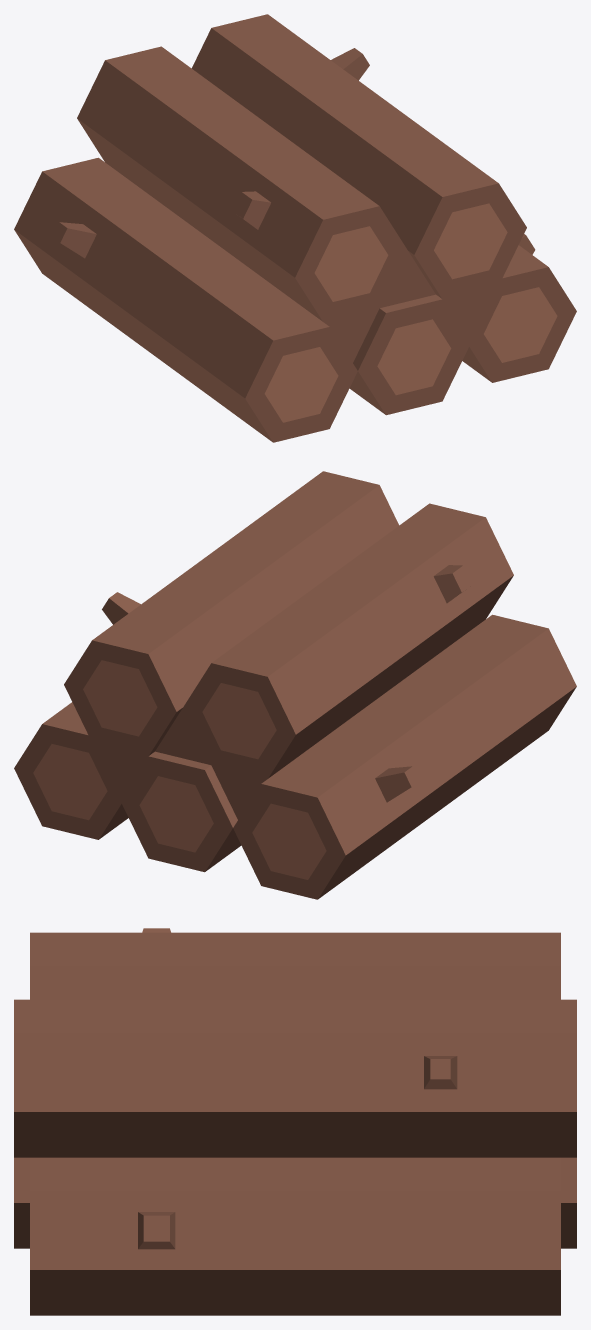
File: log.fbx
3 renders of one model, top to bottom at view 1: azimuth 30°, elevation 25°; view 2: azimuth 150°, elevation 25°; view 3: azimuth 270°, elevation 25°, orthographic. The views are drawn at different scales.
Visible parts, largest first — view 1: log_stackLarge; view 2: log_stackLarge; view 3: log_stackLarge.
Boxes of the visible parts, box(x1,y1,x2,y2) form: log_stackLarge: box(14, 14, 576, 442); log_stackLarge: box(14, 471, 576, 899); log_stackLarge: box(14, 928, 576, 1315).
Size of the model in its own units: 0.9307 by 0.5086 by 1.04.
